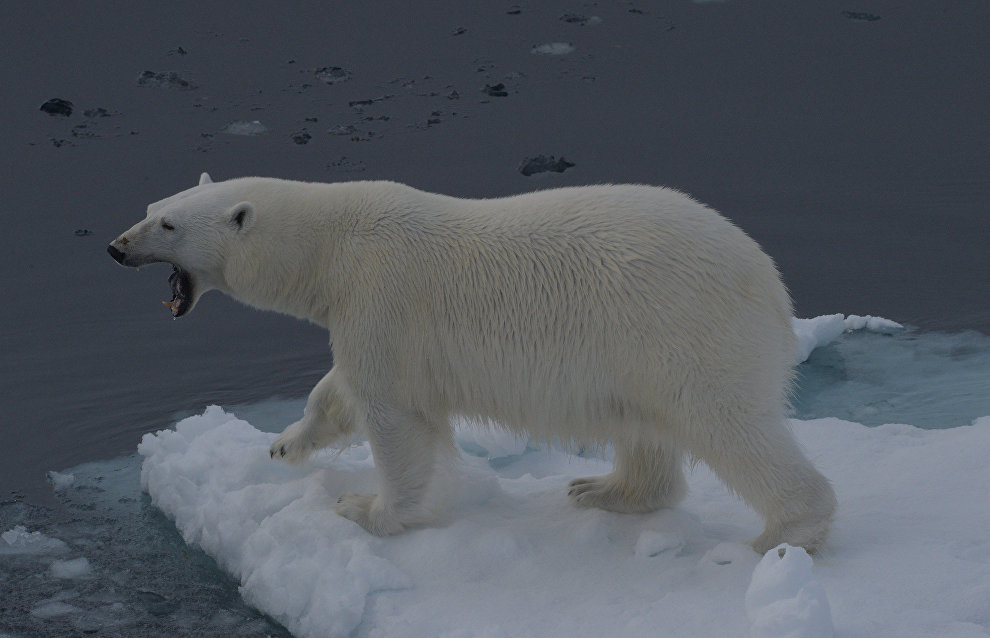PolarBear: (99, 141, 850, 551)
